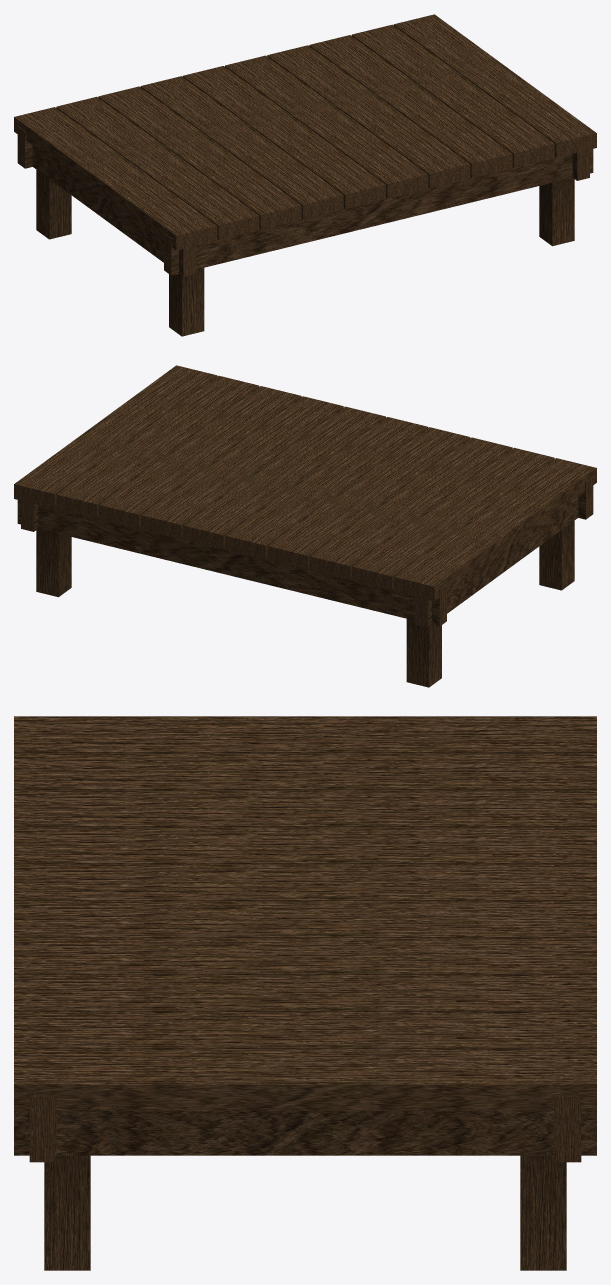
Rendered from prop_chouki.glb.
3 views of the same model, one above another, from view 1: azimuth 30°, elevation 25°; view 2: azimuth 150°, elevation 25°; view 3: azimuth 270°, elevation 25° (orthographic). The views are drawn at different scales.
Visible parts, largest first — view 1: prop_chouki; view 2: prop_chouki; view 3: prop_chouki.
Part boxes in pixels (<box>): prop_chouki: <box>14,14,596,336</box>; prop_chouki: <box>14,365,596,687</box>; prop_chouki: <box>14,716,596,1270</box>.
Size of the model in its own units: 1.8 by 0.4501 by 1.2.
1 material, 1 textured.
